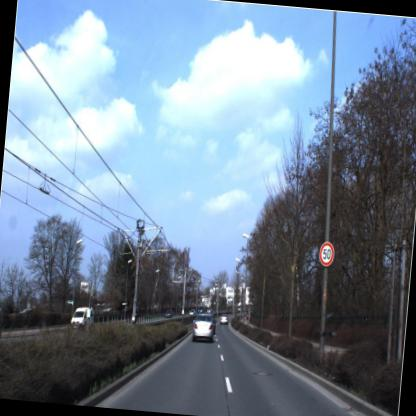prohibitory: (318, 241, 336, 269)
